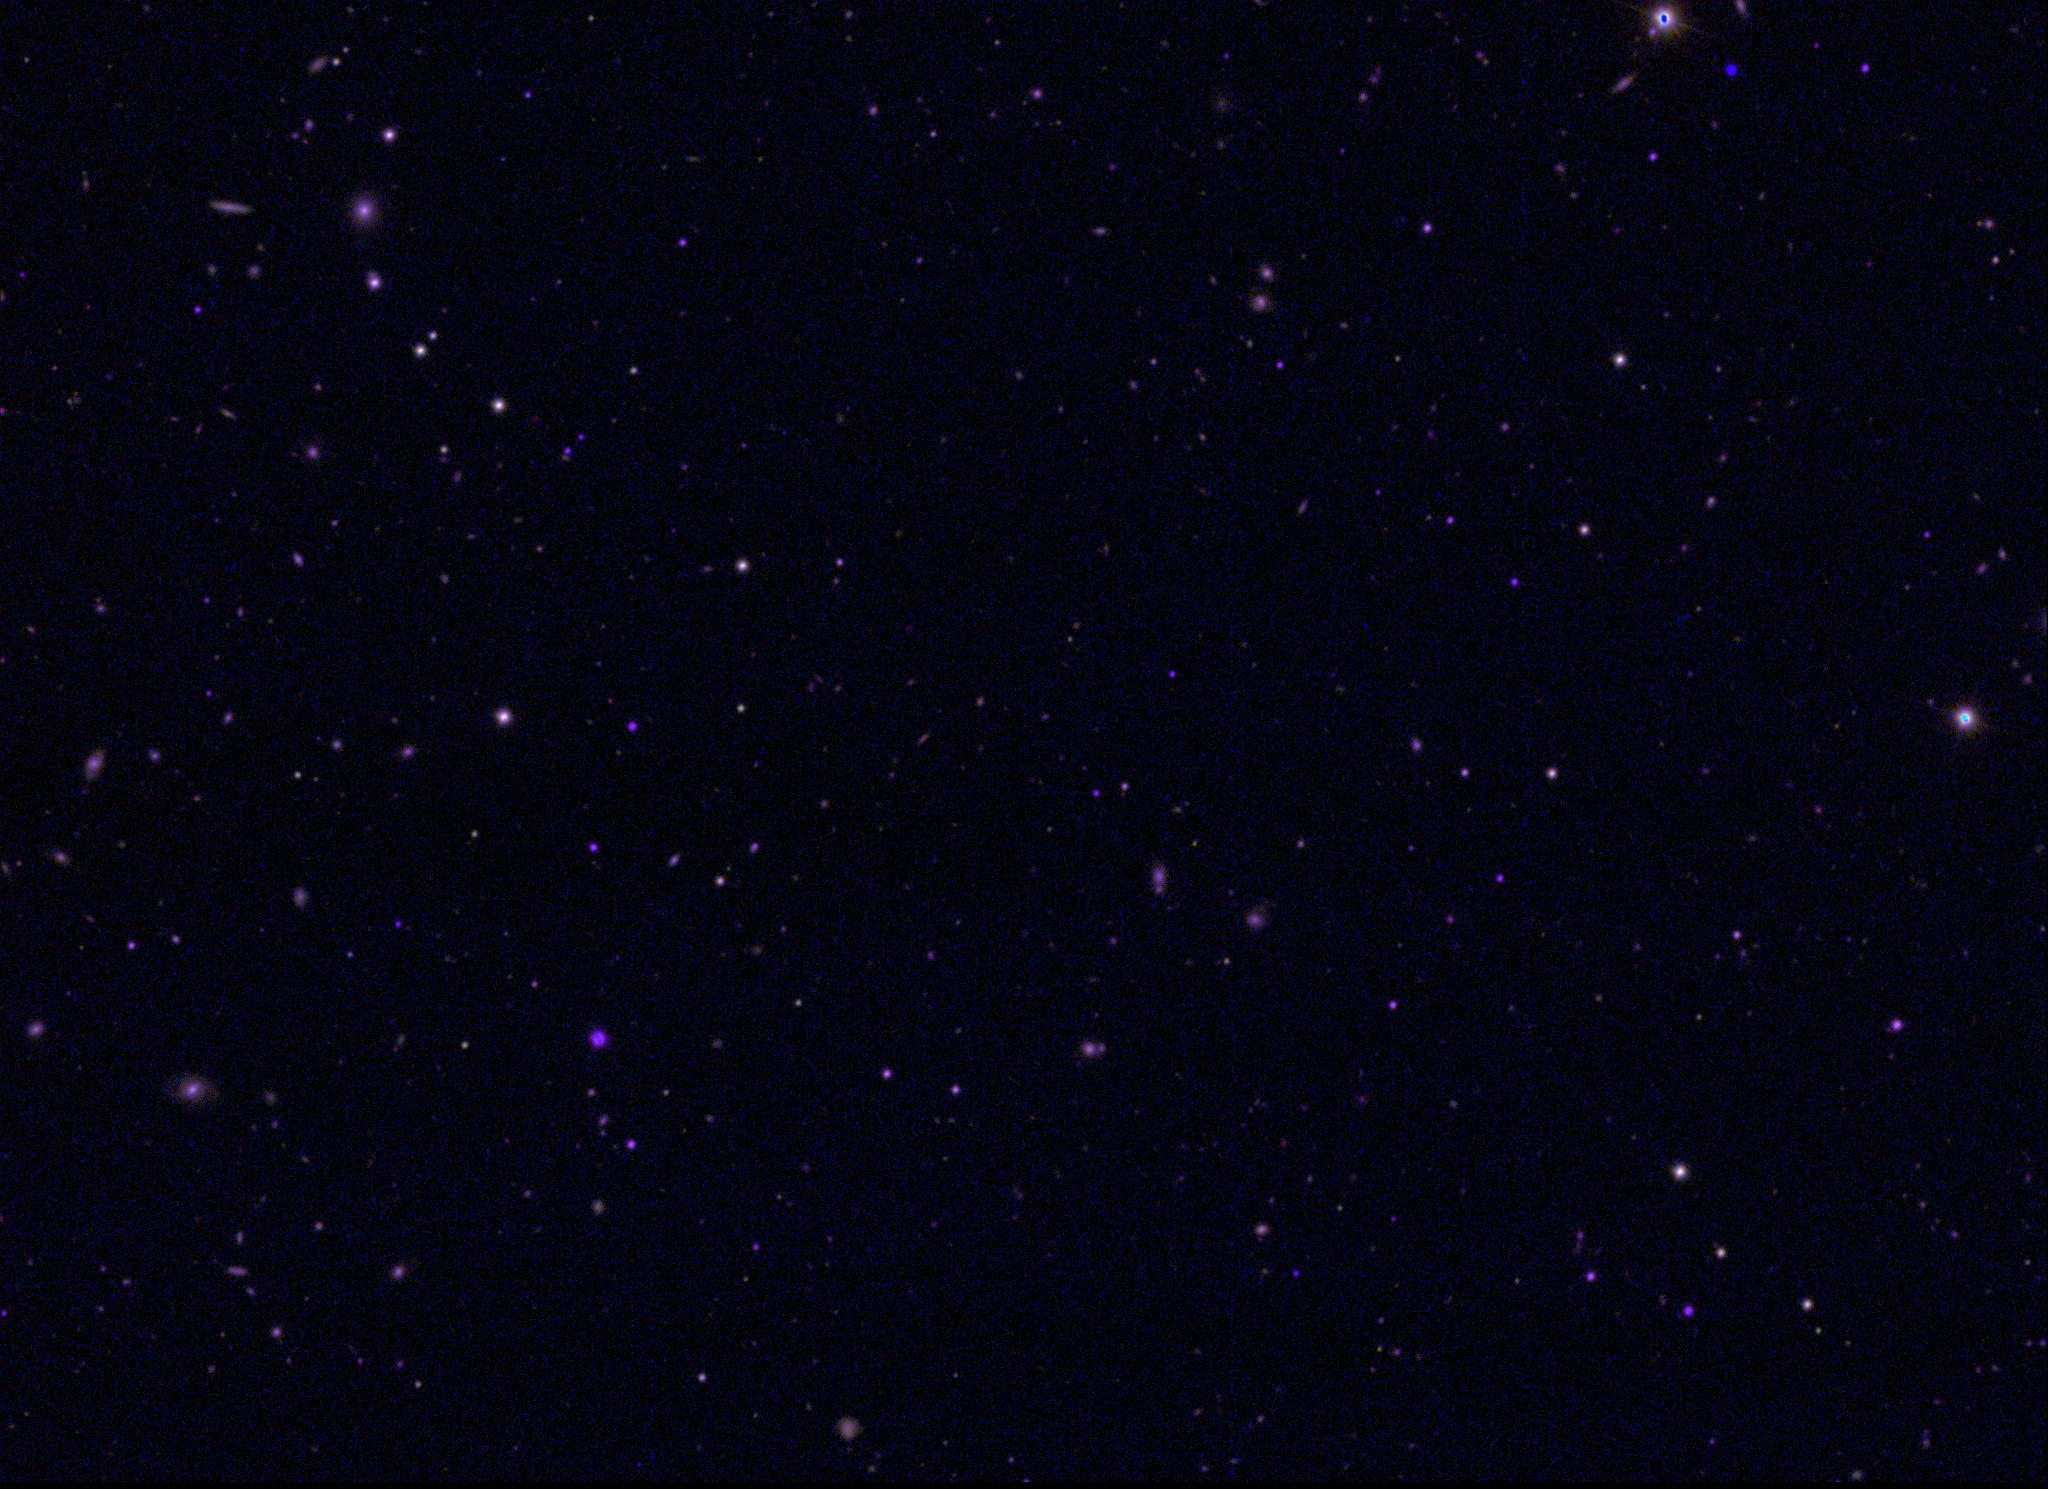L: (1722, 65, 1736, 80)
